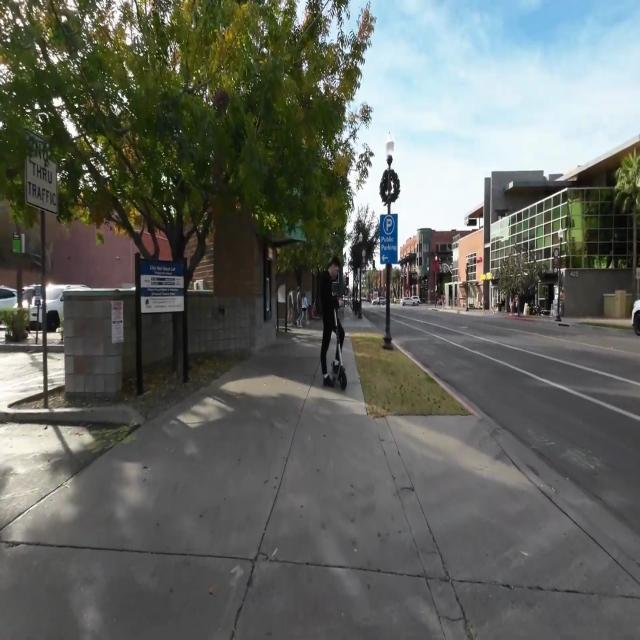road: (393, 306, 640, 535)
side walk: (0, 331, 640, 639)
street sign: (379, 139, 400, 349)
